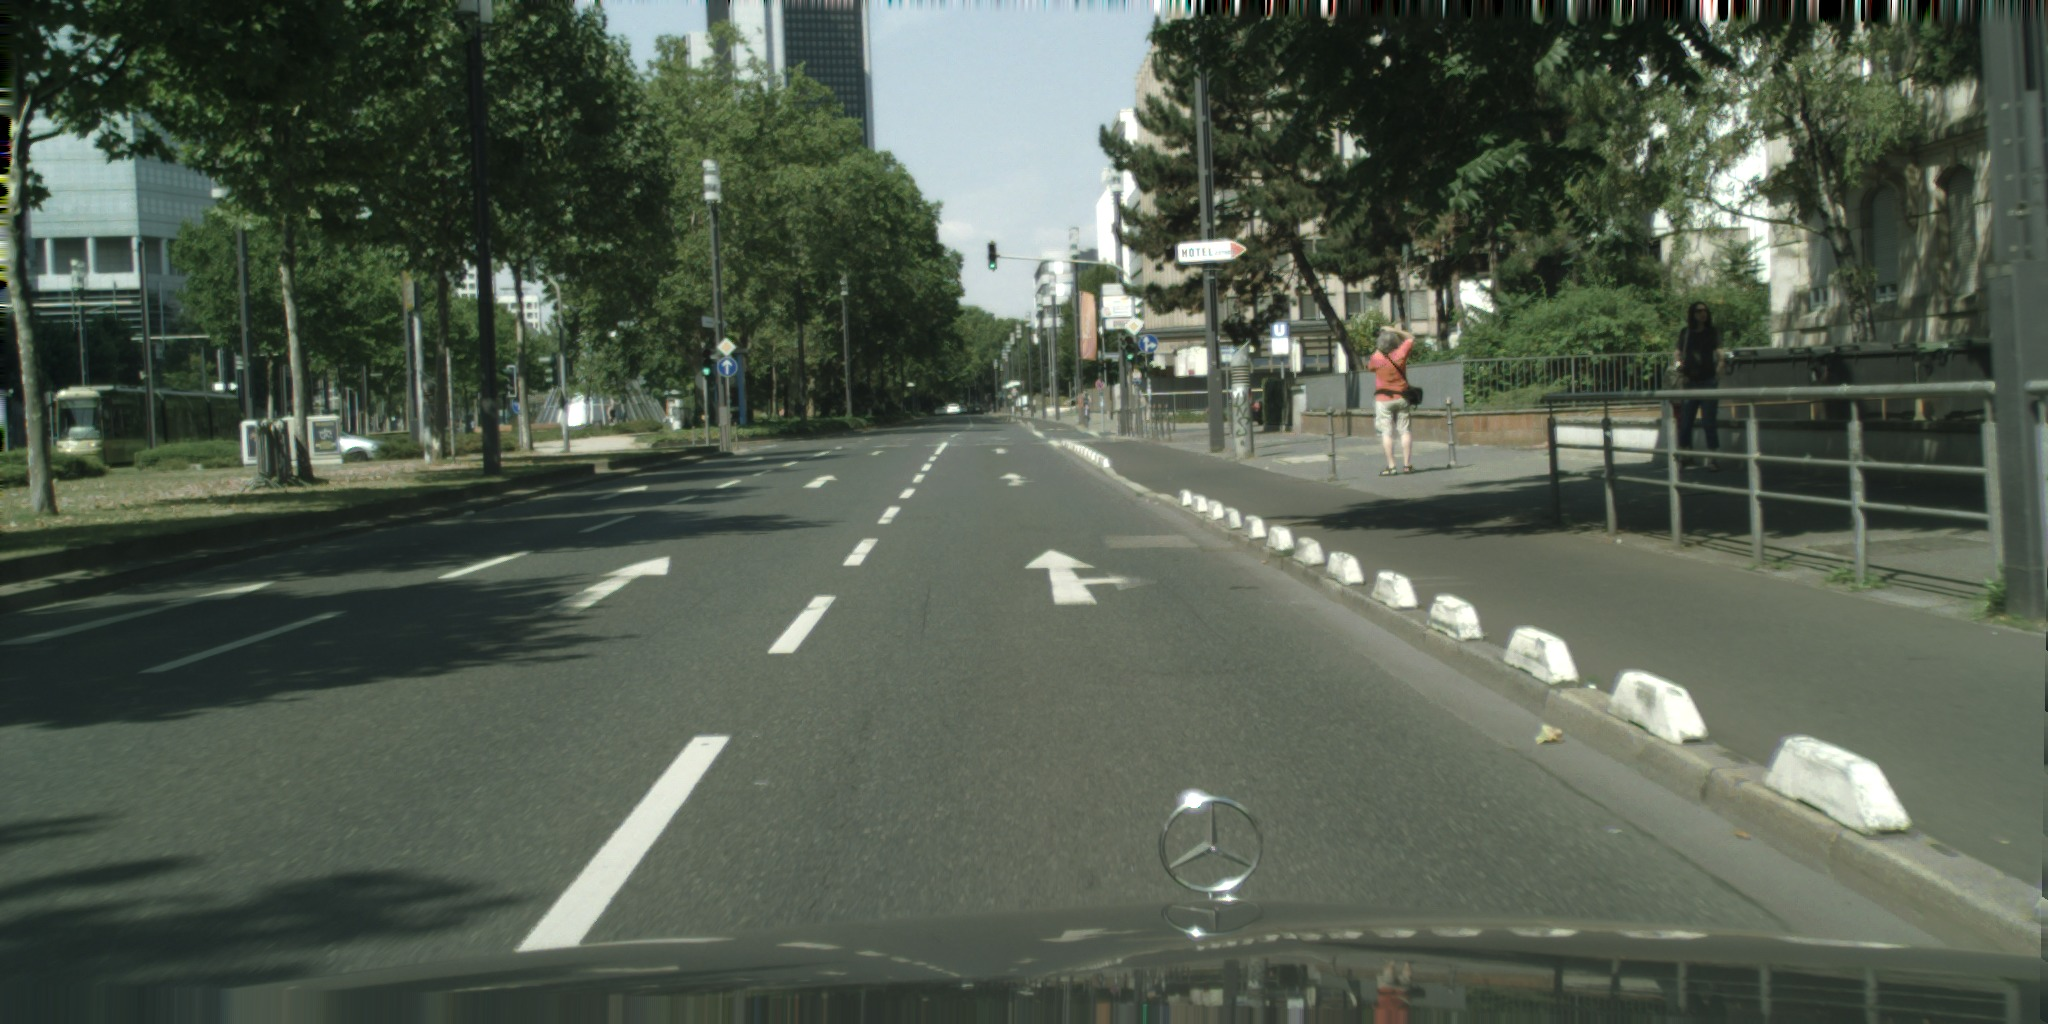car: (294, 427, 378, 461), (1248, 395, 1276, 425), (1065, 393, 1083, 406), (946, 403, 961, 414), (935, 406, 952, 415), (952, 405, 968, 413), (971, 405, 984, 414)
person: (1367, 327, 1423, 475), (1660, 301, 1728, 414), (1081, 390, 1092, 422), (607, 403, 617, 425)
train: (54, 385, 249, 465)
